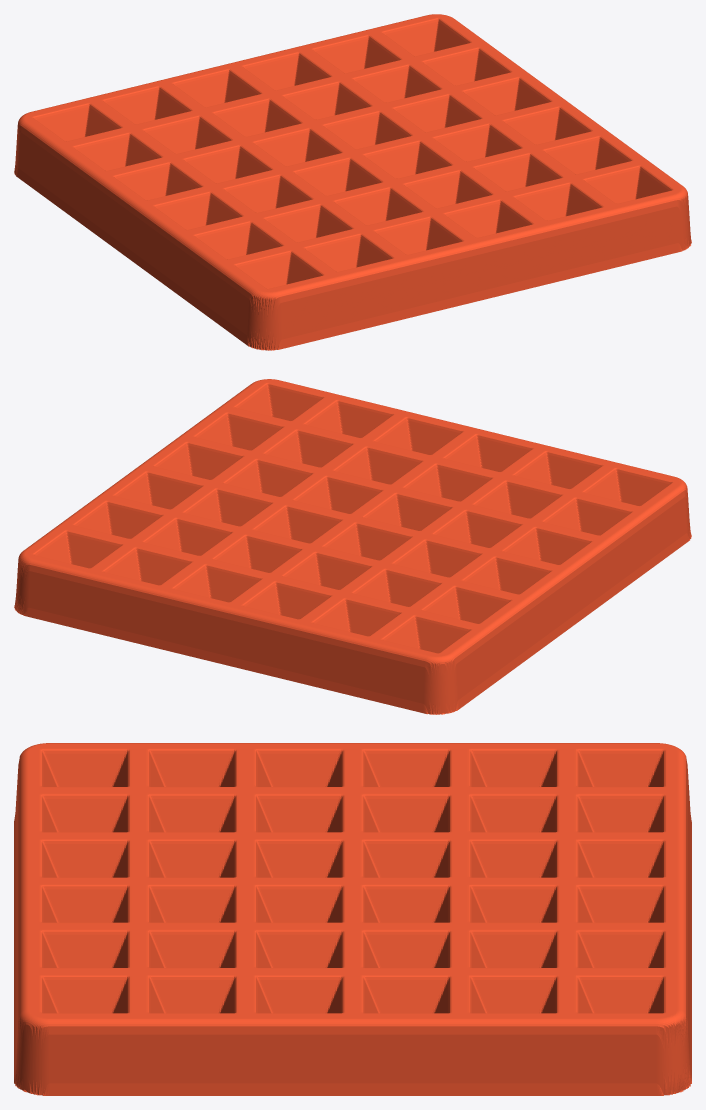
Rendered from mold.glb.
The picture shows the model from 3 angles, top to bottom: view 1: azimuth 30°, elevation 25°; view 2: azimuth 150°, elevation 25°; view 3: azimuth 270°, elevation 25°; orthographic projection. The views are drawn at different scales.
Parts seen in each view (by area): view 1: geometry_0; view 2: geometry_0; view 3: geometry_0.
Boxes of the visible parts, bbox=[...] form: geometry_0: bbox=[14, 14, 691, 350]; geometry_0: bbox=[14, 379, 691, 714]; geometry_0: bbox=[14, 743, 691, 1095].
Bounding box in the file's own units: 0.1751 × 0.0204 × 0.1751.
